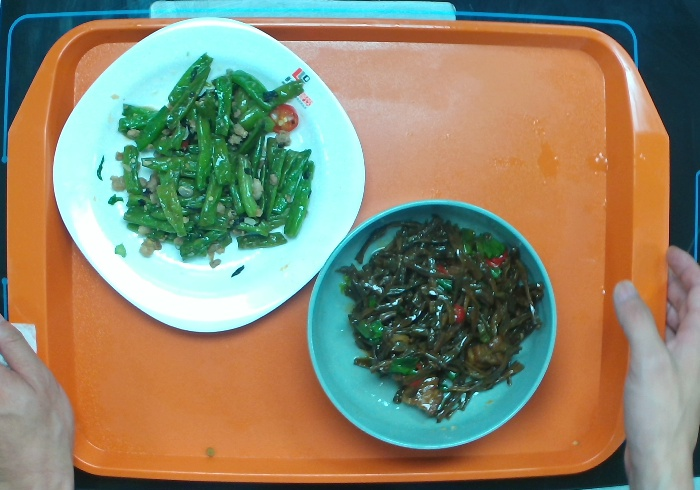ZNLD-Qing_Hua_Yuan_Wan: (298, 201, 556, 452)
ZNLD-Yuan_Jiao_Pan: (52, 8, 368, 321)
